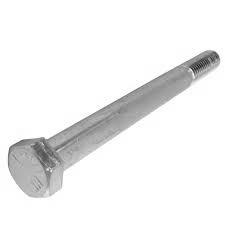hexagonal: (7, 138, 63, 198)
